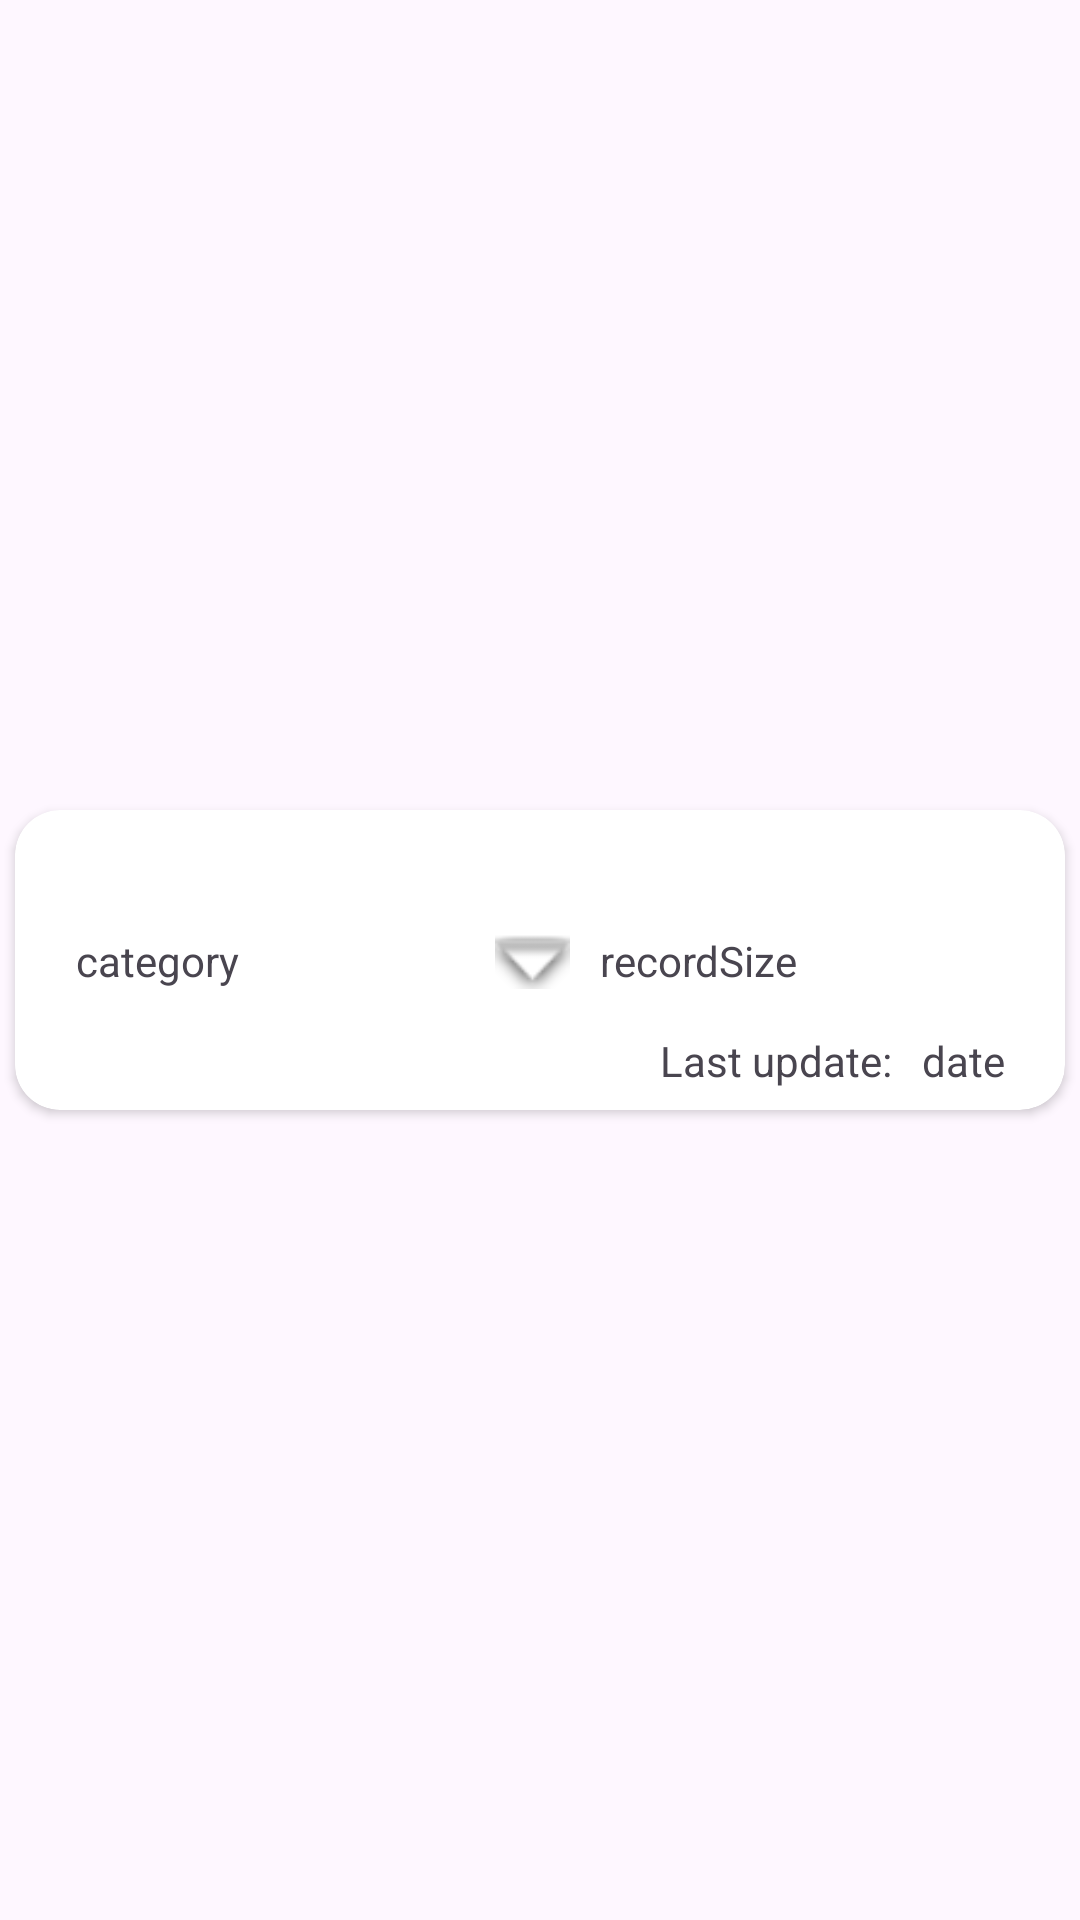

Named icons in this screenshot (1080px×1920px) and their centers, [x,y]:
arrow down float: [532,962]
